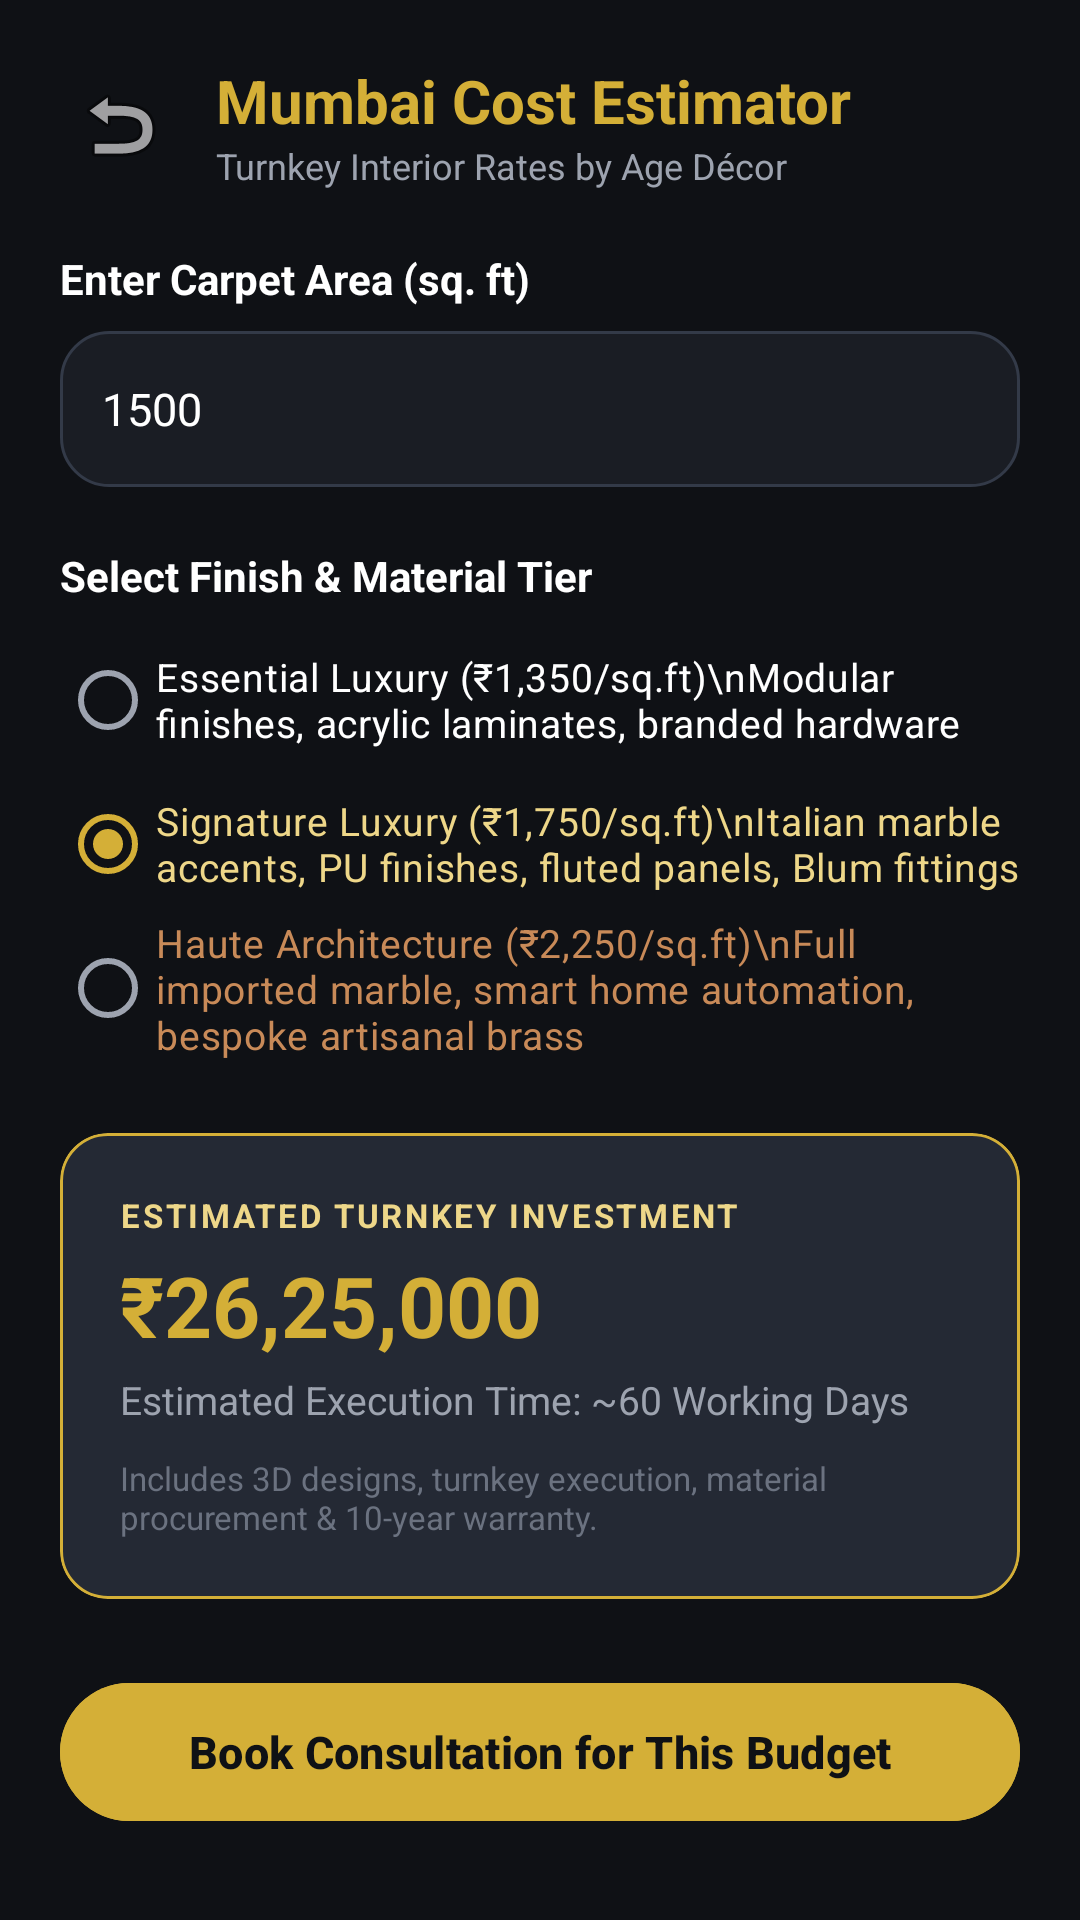

Locate icon controls on the screen. Image size 1080*1920, boxes as (x1=x1, y1=y1, x2=x2, y2=y2).
Back: (x1=90, y1=97, x2=153, y2=154)
